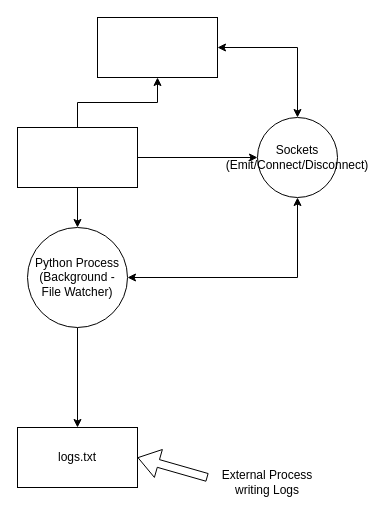
The diagram is 386 pixels wide and 525 high, and some of its shapes have lost their labels. Here are the shapes that lost their labels. From the top down, the centre of each, then its label:
At point (157, 47): "Client (Frontend - HTML + JS)".
At point (77, 157): "WebServer (Flask)".
